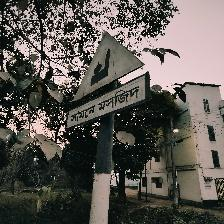Mosque in front: (62, 30, 151, 130)
